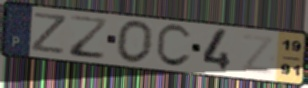4: (200, 27, 236, 74)
C: (154, 23, 193, 69)
O: (115, 19, 156, 65)
Z: (68, 13, 110, 62), (29, 11, 70, 56), (240, 32, 277, 78)
